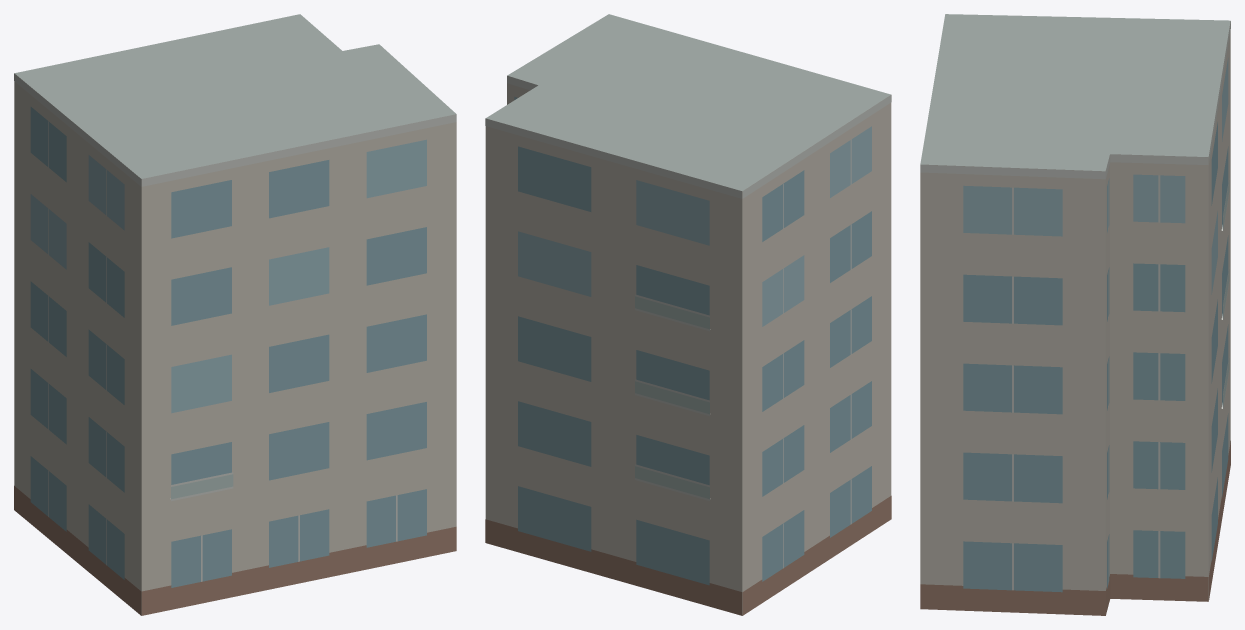
The model's file is survey-upis-32710032.glb.
3 views of the same model, side by side, from view 1: azimuth 30°, elevation 25°; view 2: azimuth 150°, elevation 25°; view 3: azimuth 270°, elevation 25° (orthographic). The views are drawn at different scales.
Parts seen in each view (by area): view 1: survey-upis-32710032.tmp; view 2: survey-upis-32710032.tmp; view 3: survey-upis-32710032.tmp.
Part boxes in pixels (<box>): survey-upis-32710032.tmp: <box>14,14,456,615</box>; survey-upis-32710032.tmp: <box>485,14,891,615</box>; survey-upis-32710032.tmp: <box>920,14,1230,615</box>.
Size of the model in its own units: 10.25 by 13.5 by 8.55.
